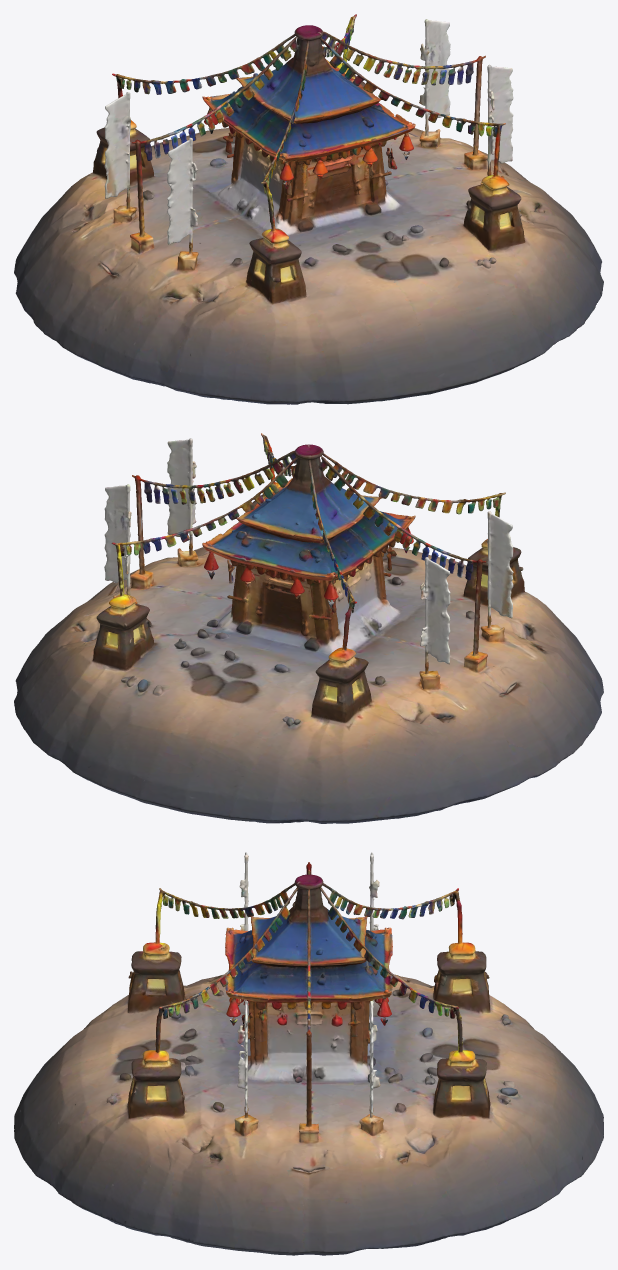
The model's file is temple.compressed.glb.
3 views of the same model, one above another, from view 1: azimuth 30°, elevation 25°; view 2: azimuth 150°, elevation 25°; view 3: azimuth 270°, elevation 25° (orthographic).
Bounding box in the file's own units: 1.9 × 0.9056 × 1.9.
Materials: 1 (1 with a texture image).
